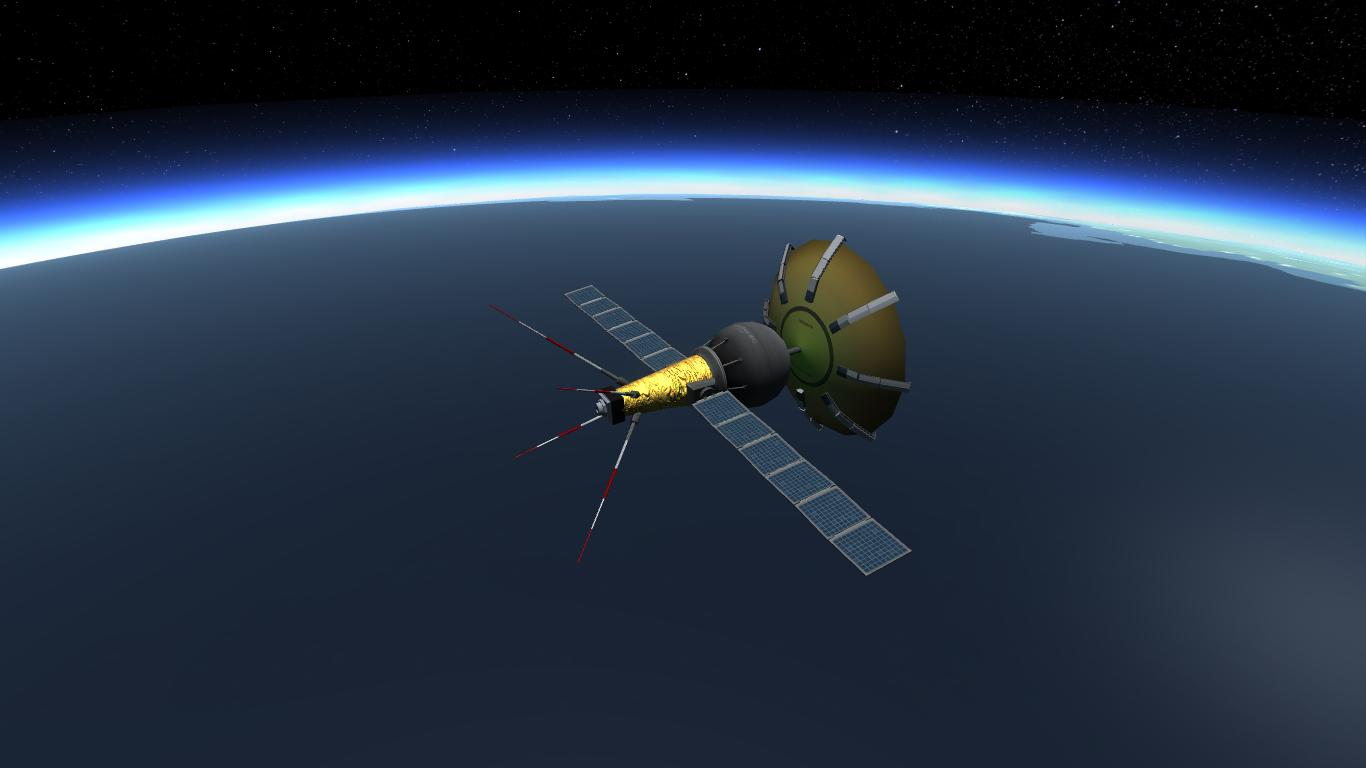antenna: (760, 231, 914, 445), (486, 301, 628, 384), (574, 411, 644, 568), (510, 414, 602, 462), (554, 385, 641, 401)
body: (593, 319, 793, 427)
solar: (689, 388, 914, 579), (562, 282, 691, 374)
